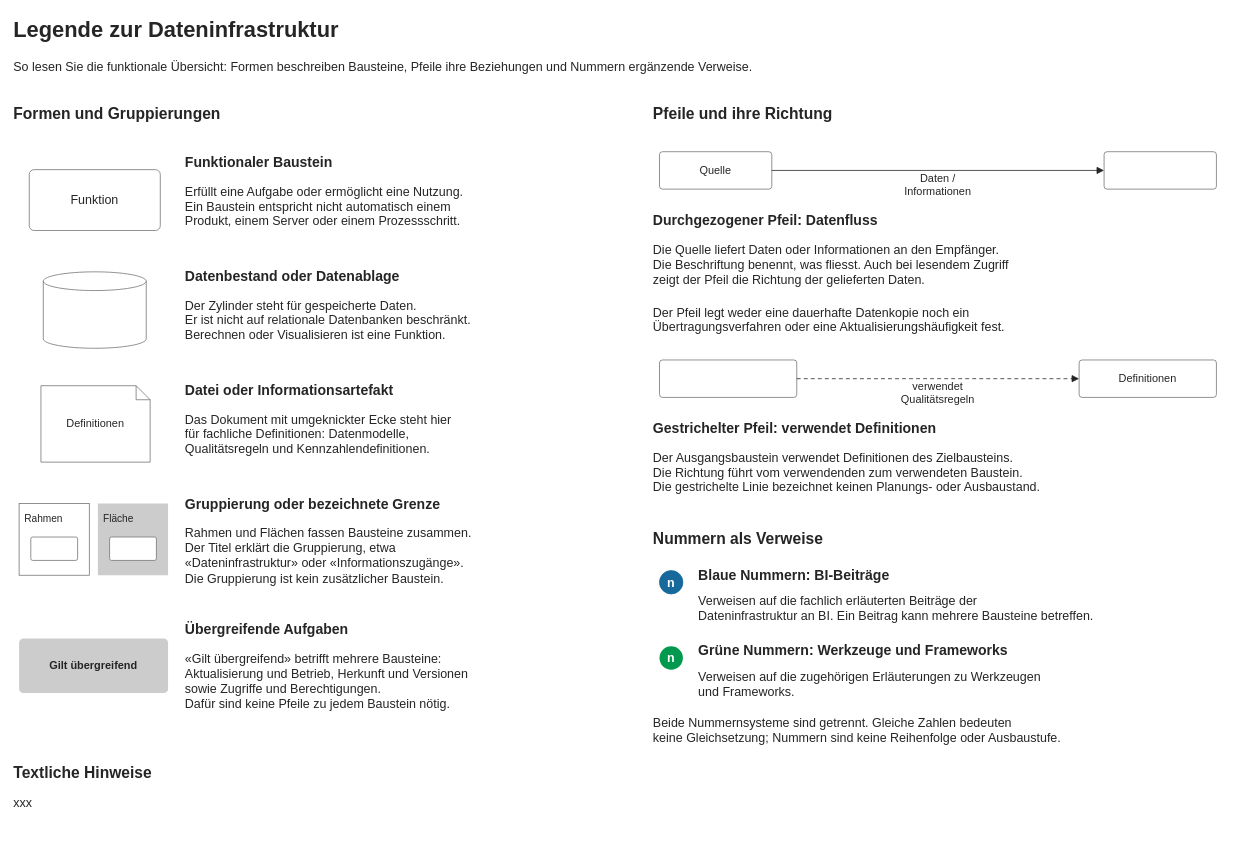
The diagram is 1239 pixels wide and 866 high, and some of its shapes have lost their labels. Each missing label, with the centre of its shape:
Daten: (x=94, y=309)
Empfänger: (x=1159, y=170)
Nutzender Baustein: (x=728, y=378)
